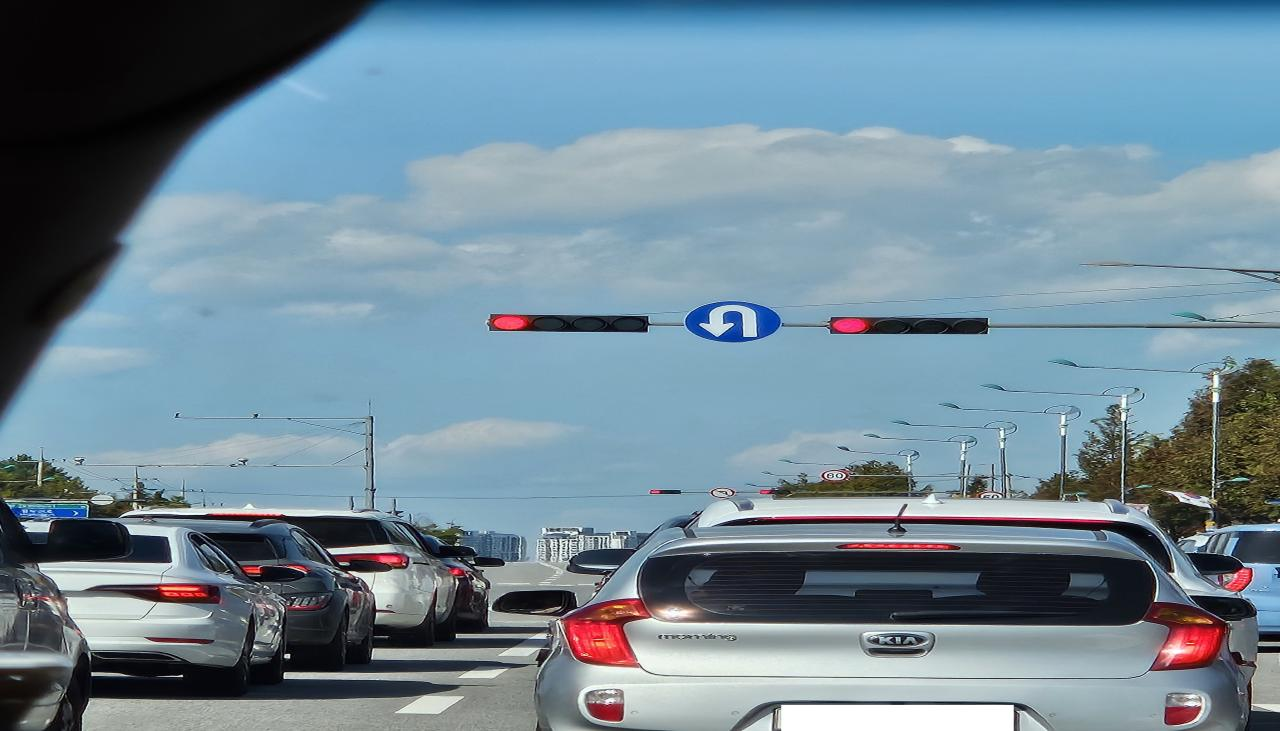Red Light: (830, 316, 869, 334), (489, 314, 530, 331)
